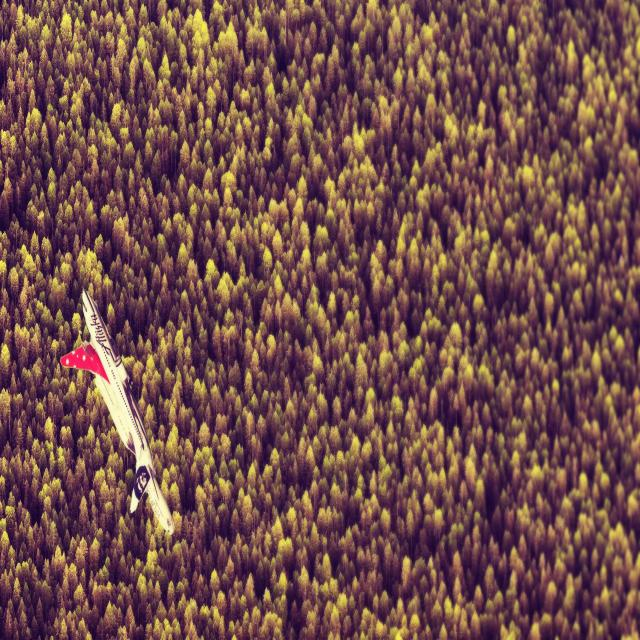airplane: (59, 288, 175, 536)
